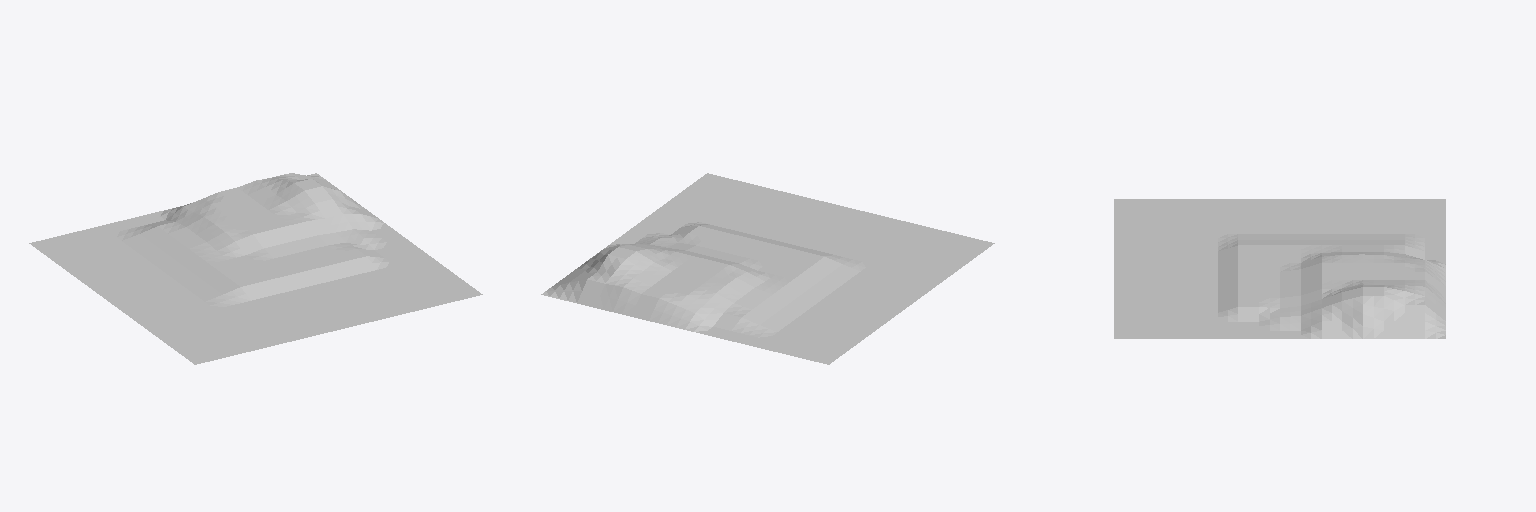
The model's file is terrain.obj.
3 views of the same model, side by side, from view 1: azimuth 30°, elevation 25°; view 2: azimuth 150°, elevation 25°; view 3: azimuth 270°, elevation 25° (orthographic).
Visible parts, largest first — view 1: terrain_Plane; view 2: terrain_Plane; view 3: terrain_Plane.
Part boxes in pixels (bbox=[...]): terrain_Plane: bbox=[29, 173, 482, 364]; terrain_Plane: bbox=[541, 173, 994, 364]; terrain_Plane: bbox=[1114, 199, 1445, 338].
Bounding box in the file's own units: 1021 × 88.52 × 1021.